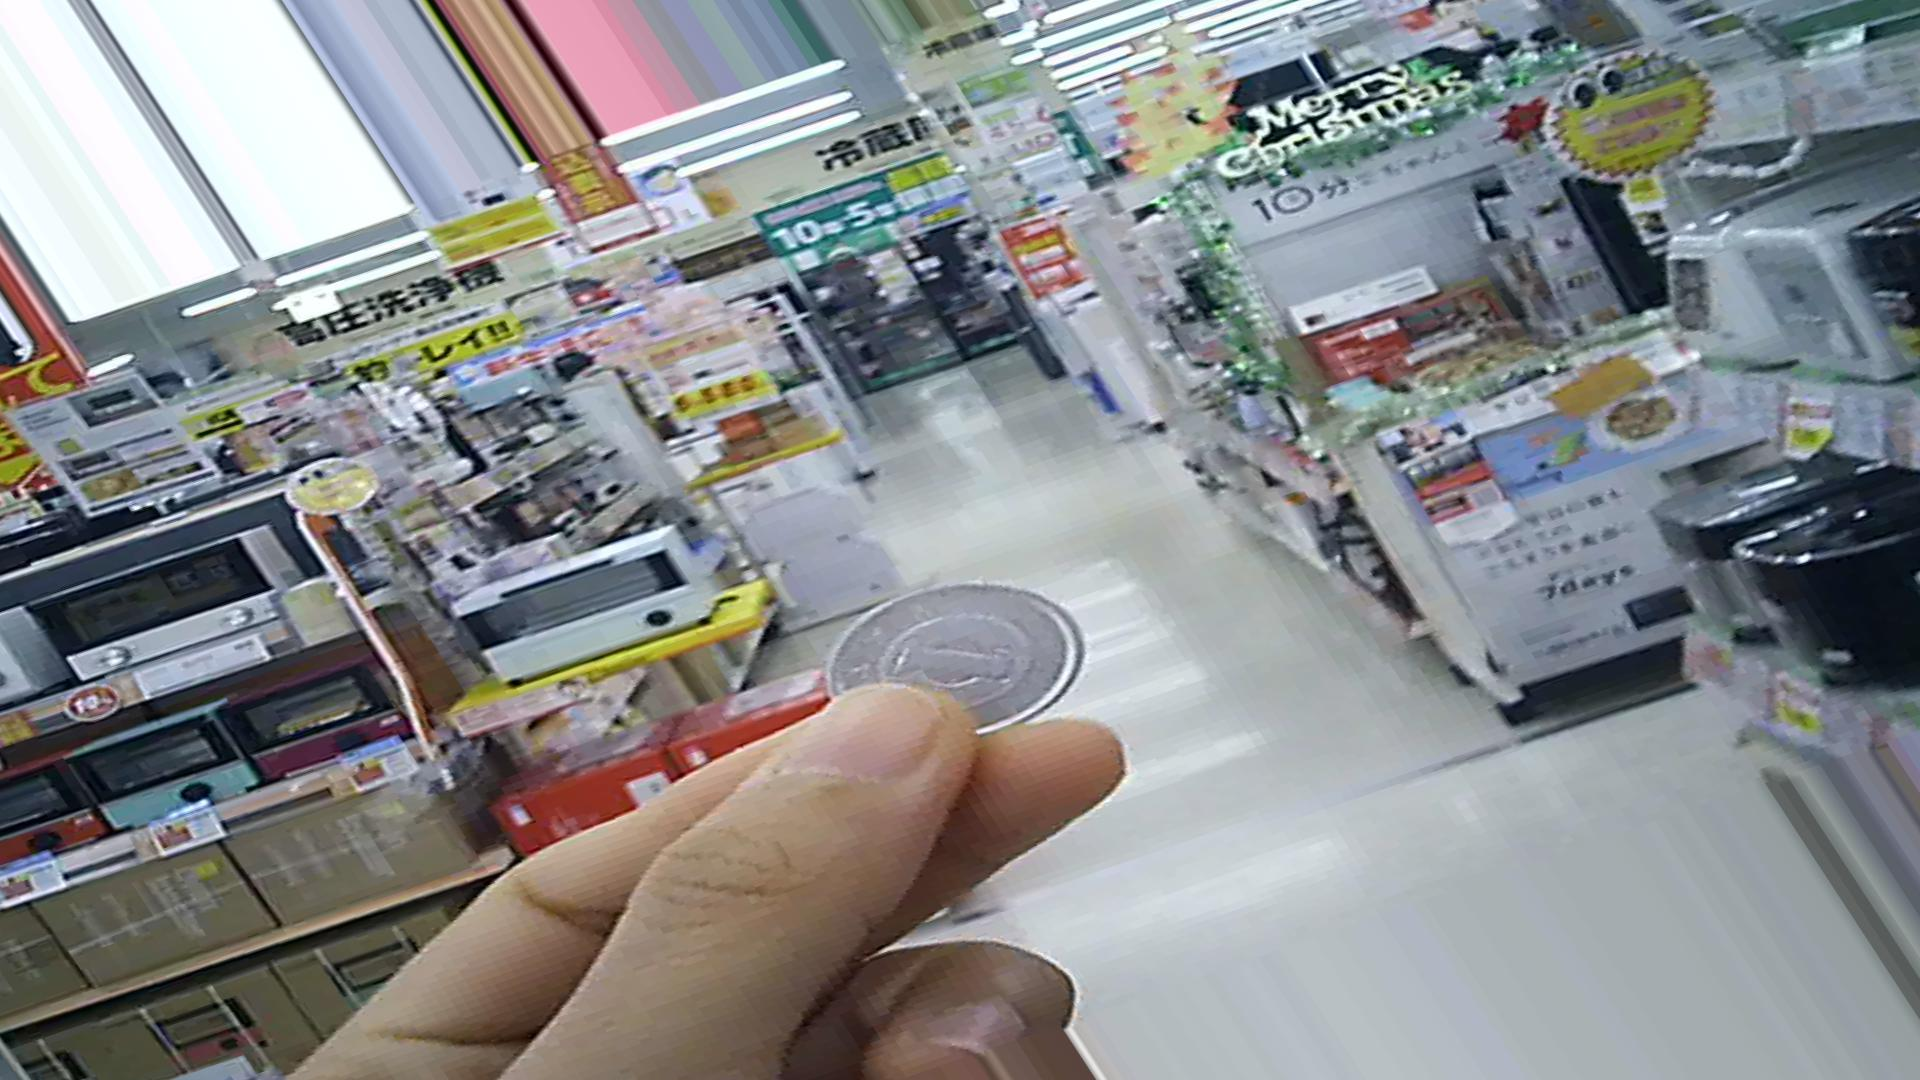1 Yen: (810, 566, 1080, 742)
